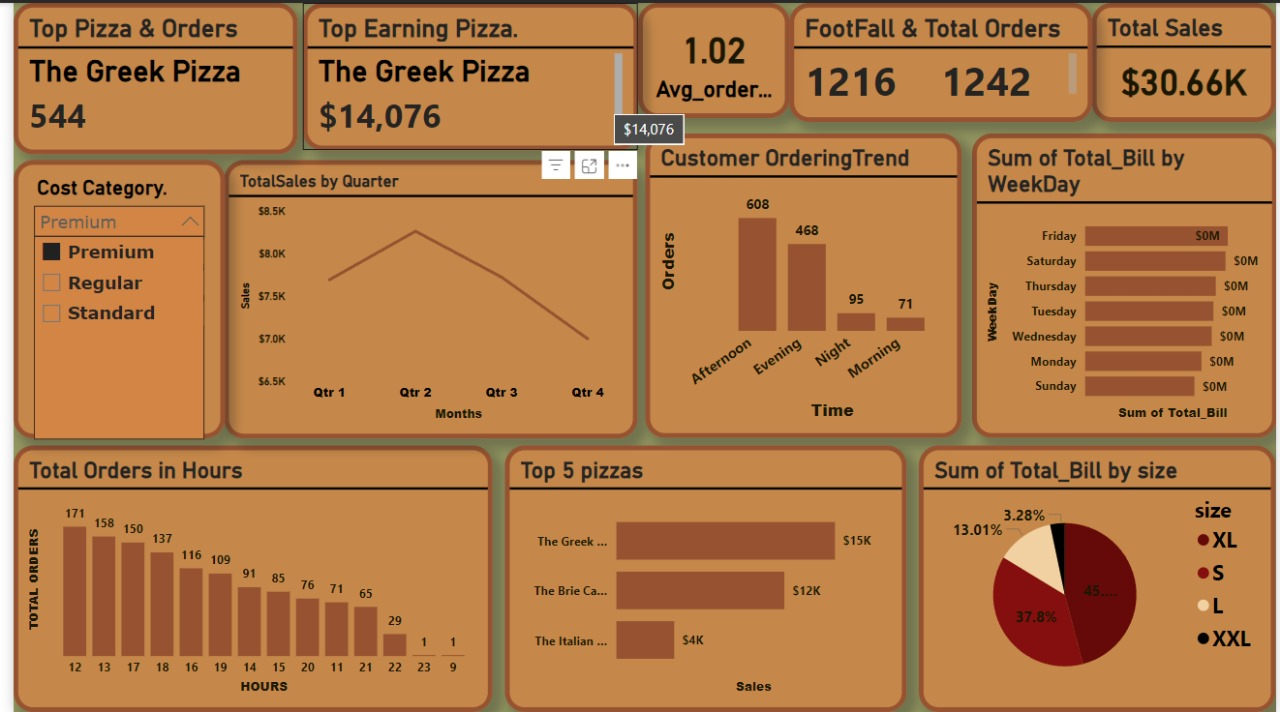

The page's visual inventory and layout, read from the dashboard file:
{"tool":"powerbi","page":{"name":"Page 1","canvas":[1280,720],"ordinal":0},"visuals":[{"type":"card","title":"Total Sales","fields":{"Values":["orders_details.TotalSales"]},"box":[1093.9,0,186.4,120.6],"z":0},{"type":"clusteredColumnChart","title":"Total Orders in Hours","fields":{"Category":["orders.Hours"],"Y":["Sum(orders_details.quantity)"]},"box":[0,449.6,485.2,270],"z":1000},{"type":"barChart","fields":{"Y":["Sum(orders_details.Total_Bill)"],"Category":["orders.WeekDay"]},"box":[971.9,133,308.4,308.4],"z":2000},{"type":"card","title":"Average_order/Person","fields":{"Values":["orders.Avg_order_per_person"]},"box":[633.3,0,153.5,116.5],"z":3000},{"type":"multiRowCard","title":"FootFall & Total Orders","fields":{"Values":["orders.footfall","orders.totalorder"]},"box":[786.8,0,307,120.6],"z":4000},{"type":"lineChart","fields":{"Y":["orders_details.TotalSales"],"Category":["orders.date.Variation.Date Hierarchy.Quarter"]},"box":[213.8,159,419.4,282.4],"z":5000},{"type":"multiRowCard","title":"Top Pizza & Orders","fields":{"Values":["orders.MostOrderedPizza","orders.MostOrderedPizzaTotalOrders"]},"box":[0,0,287.9,153.5],"z":6000},{"type":"multiRowCard","title":"Top Earning Pizza.","fields":{"Values":["orders.MostRevenueGeneratingPizza","orders.MostRevenueGeneratingPizzaSales"]},"box":[293.3,0,339.9,149.4],"z":7000},{"type":"clusteredColumnChart","title":"Customer OrderingTrend","fields":{"Category":["orders.TimeOfDayCategory"],"Y":["orders.totalorder"]},"box":[640.1,133,320.8,308.4],"z":8000},{"type":"barChart","title":"Top 5 pizzas","fields":{"Category":["pizza_types.name"],"Y":["Sum(orders_details.Total_Bill)"]},"box":[497.6,449.6,407.1,270],"z":9000},{"type":"pieChart","fields":{"Category":["pizzas.size"],"Y":["Sum(orders_details.Total_Bill)"]},"box":[918.4,449.6,361.9,270],"z":10000},{"type":"slicer","fields":{"Values":["pizzas.Cost_classification"]},"box":[0,159,214,282],"z":11000}]}

Visuals, with their boxes in screenshot pixels (x1, y1, x2, y2), scaled from the page's 1280x720 canvas onto the 1280x712 screenshot:
"Total Sales" card: x1=1094, y1=0, x2=1279, y2=119
"Total Orders in Hours" clusteredColumnChart: x1=0, y1=445, x2=485, y2=711
barChart - Sum(orders_details.Total_Bill) x orders.WeekDay: x1=972, y1=132, x2=1279, y2=436
"Average_order/Person" card: x1=633, y1=0, x2=787, y2=115
"FootFall & Total Orders" multiRowCard: x1=787, y1=0, x2=1094, y2=119
lineChart - orders_details.TotalSales x orders.date.Variation.Date Hierarchy.Quarter: x1=214, y1=157, x2=633, y2=436
"Top Pizza & Orders" multiRowCard: x1=0, y1=0, x2=288, y2=152
"Top Earning Pizza." multiRowCard: x1=293, y1=0, x2=633, y2=148
"Customer OrderingTrend" clusteredColumnChart: x1=640, y1=132, x2=961, y2=436
"Top 5 pizzas" barChart: x1=498, y1=445, x2=905, y2=711
pieChart - pizzas.size x Sum(orders_details.Total_Bill): x1=918, y1=445, x2=1279, y2=711
slicer - pizzas.Cost_classification: x1=0, y1=157, x2=214, y2=436
